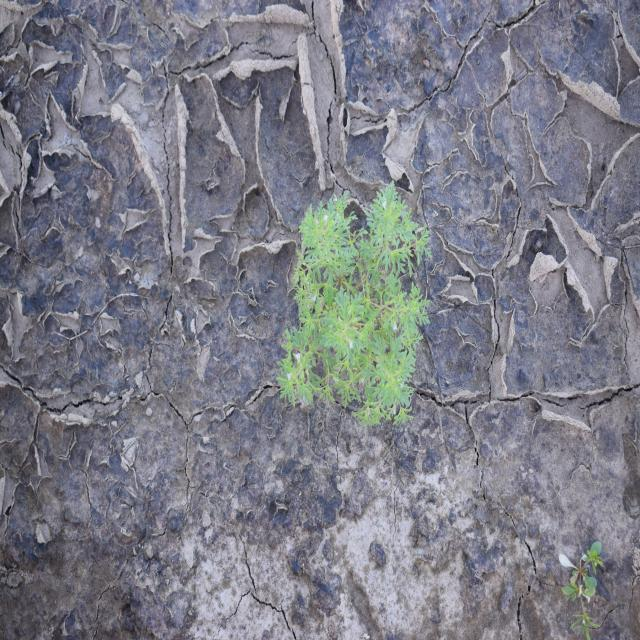Carpetweed: (557, 541, 608, 639)
Ragweed: (274, 179, 434, 429)
